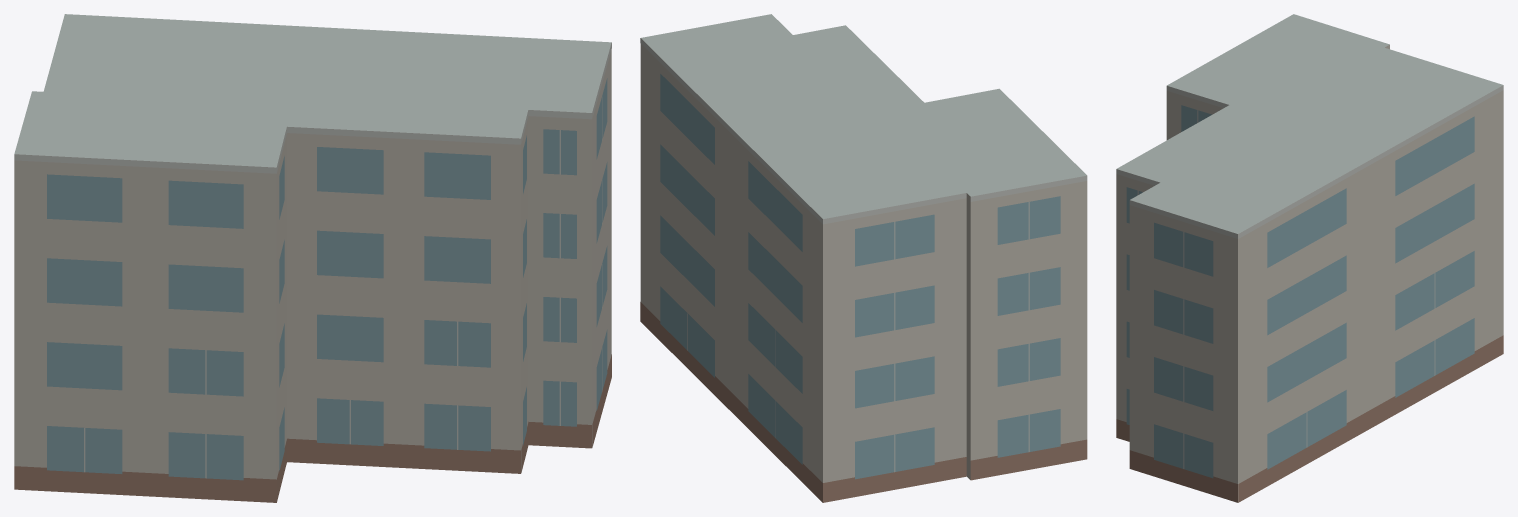
File: survey-upis-32816074.glb
The picture shows the model from 3 angles, left to right: view 1: azimuth 30°, elevation 25°; view 2: azimuth 150°, elevation 25°; view 3: azimuth 270°, elevation 25°; orthographic projection. The views are drawn at different scales.
Parts seen in each view (by area): view 1: survey-upis-32816074.tmp; view 2: survey-upis-32816074.tmp; view 3: survey-upis-32816074.tmp.
Part boxes in pixels (x1,y1,x2,y2): survey-upis-32816074.tmp: (14,14,611,502); survey-upis-32816074.tmp: (640,14,1087,502); survey-upis-32816074.tmp: (1116,14,1503,502).
Bounding box in the file's own units: 23.03 × 13.11 × 17.14.
